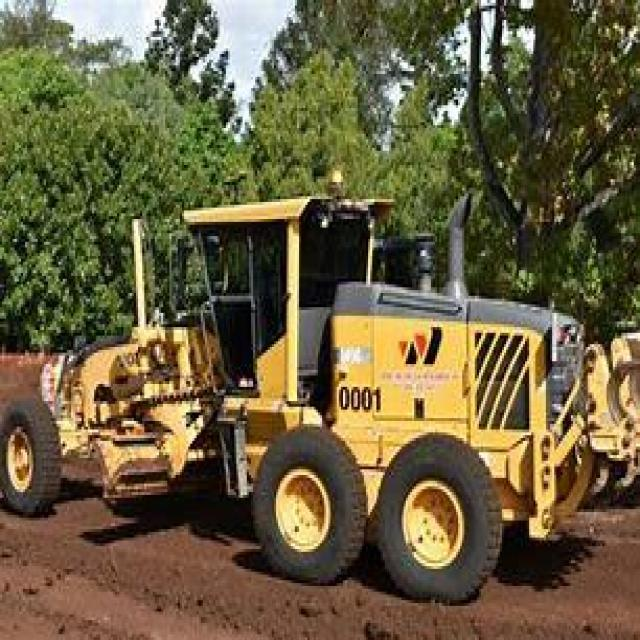Grader: (4, 188, 617, 606)
